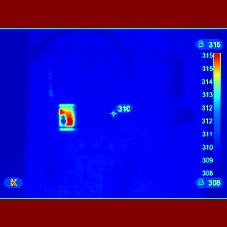Less: (60, 115, 65, 125)
